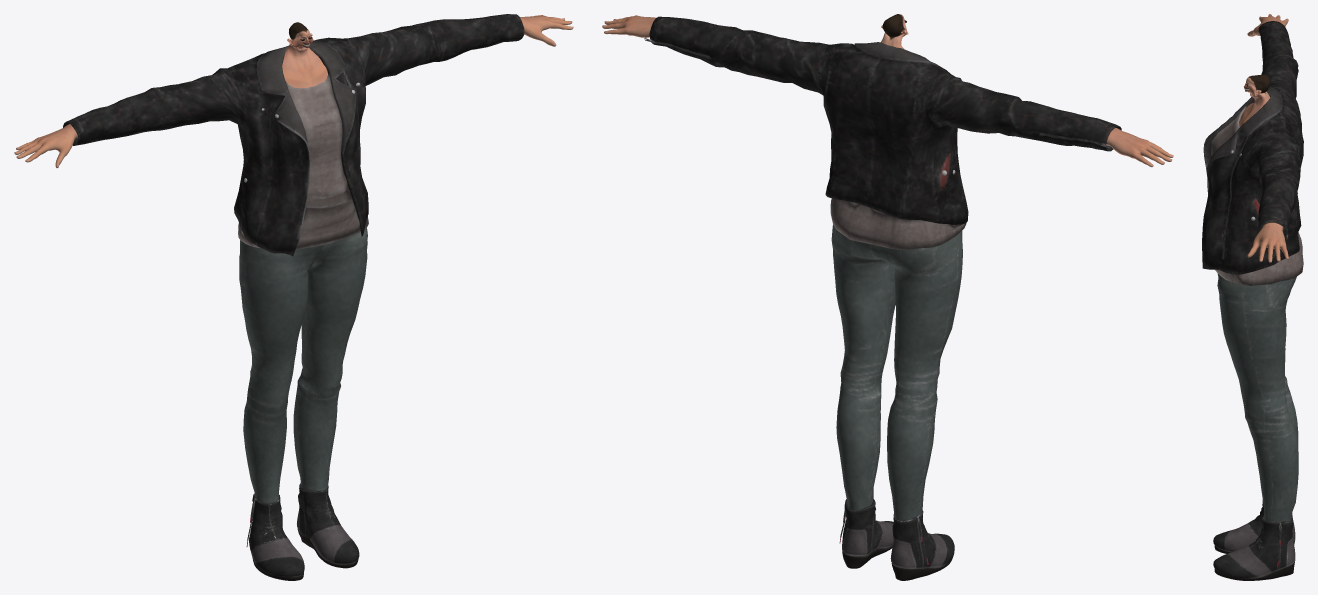
Rendered from Player 2.obj.
3 views of the same model, side by side, from view 1: azimuth 30°, elevation 25°; view 2: azimuth 150°, elevation 25°; view 3: azimuth 270°, elevation 25° (orthographic). The views are drawn at different scales.
Visible parts, largest first — view 1: Tops, Bottoms, Shoes, Body; view 2: Tops, Bottoms, Shoes, Body; view 3: Tops, Bottoms, Shoes, Body.
Part boxes in pixels (x1,y1,x2,y2): Tops: [63, 14, 524, 256]; Bottoms: [239, 227, 367, 511]; Shoes: [246, 483, 359, 580]; Body: [14, 15, 573, 168]; Tops: [644, 16, 1121, 249]; Bottoms: [831, 224, 962, 523]; Shoes: [839, 498, 954, 580]; Body: [602, 14, 1173, 167]; Tops: [1202, 21, 1303, 285]; Bottoms: [1217, 273, 1298, 522]; Shoes: [1213, 500, 1295, 580]; Body: [1239, 14, 1288, 262].
Bounding box in the file's own units: 175 × 161 × 30.49.
1 material, 1 textured.
